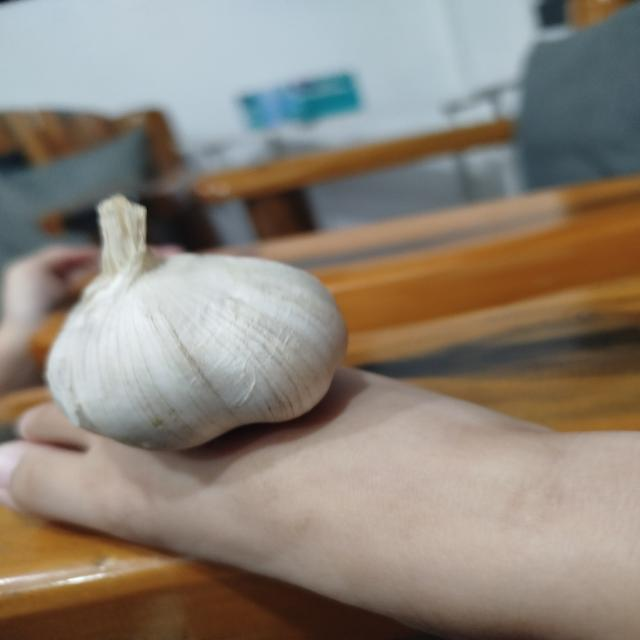garlic: (43, 194, 349, 452)
